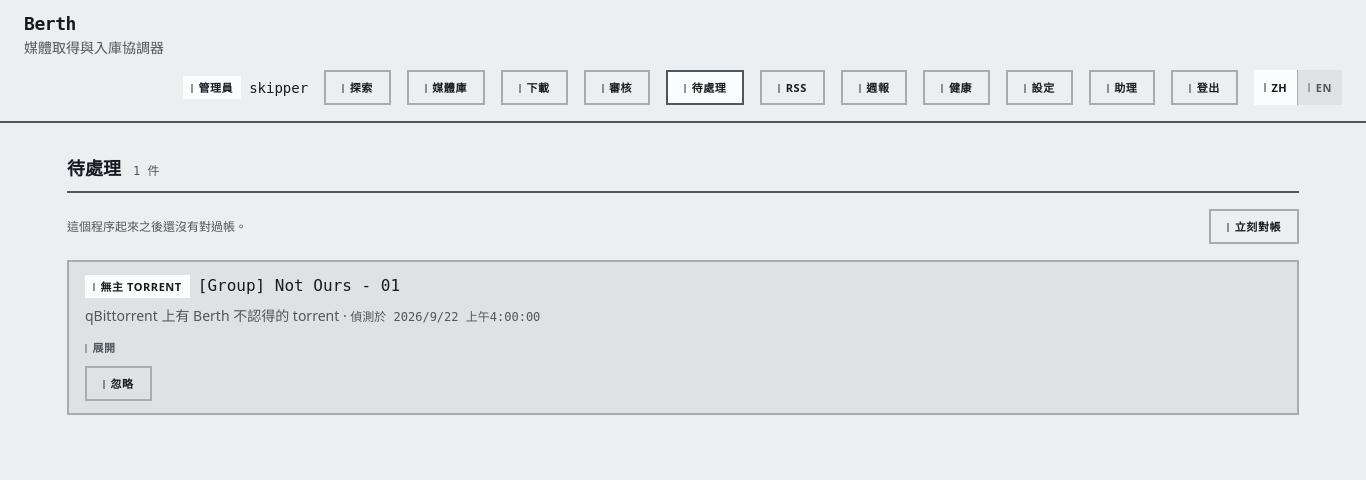
Test case: 待處理頁 › 無主的 torrent 定義上沒有下載：hash 只是字，不連到一頁一定是空的詳情
Click the heading "展開" at x=104, y=348, box [92,340,116,355]
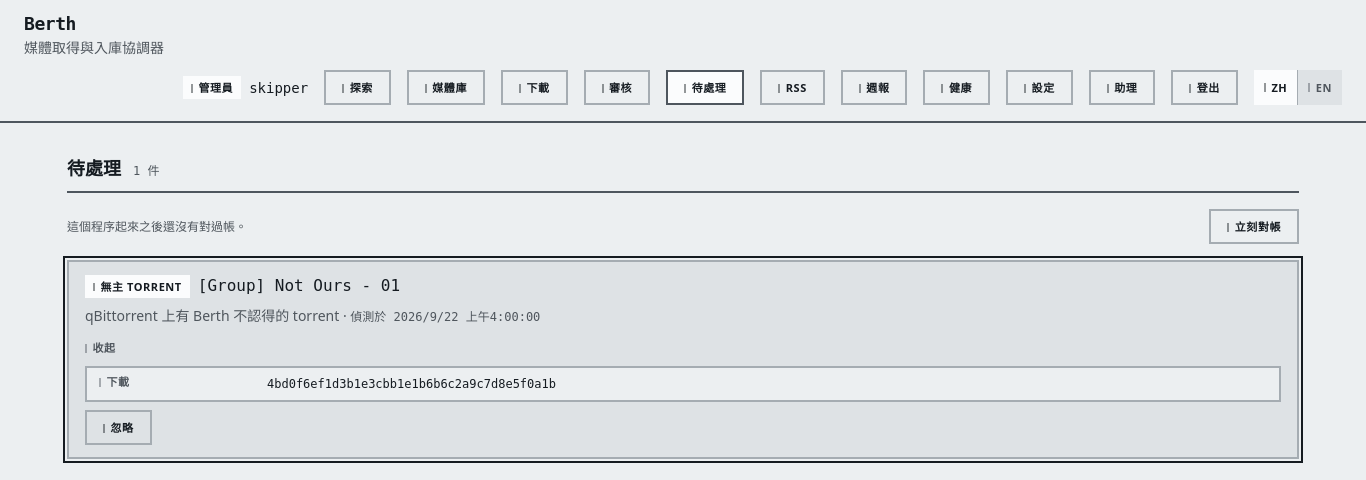
Result: the text "4bd0f6ef1d3b1e3cbb1e1b6b6c2a9c7d8e5f0a1b" is shown at [267,377,556,391]
